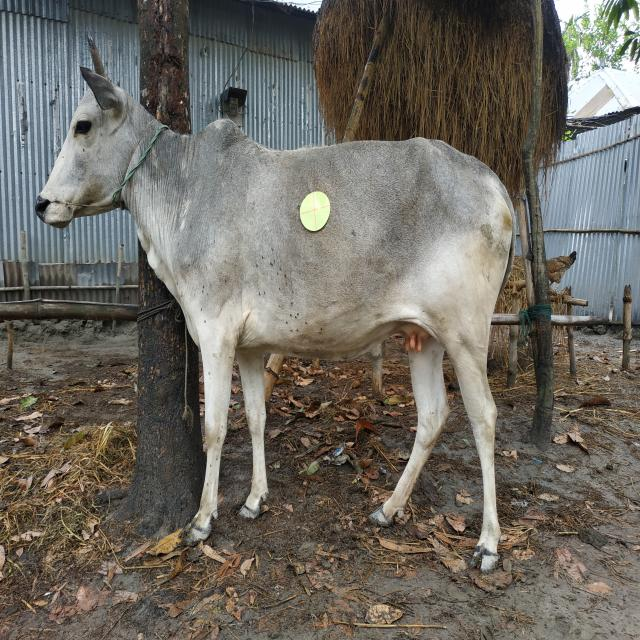badan_sapi: (192, 137, 514, 362)
sapi: (30, 28, 533, 594)
